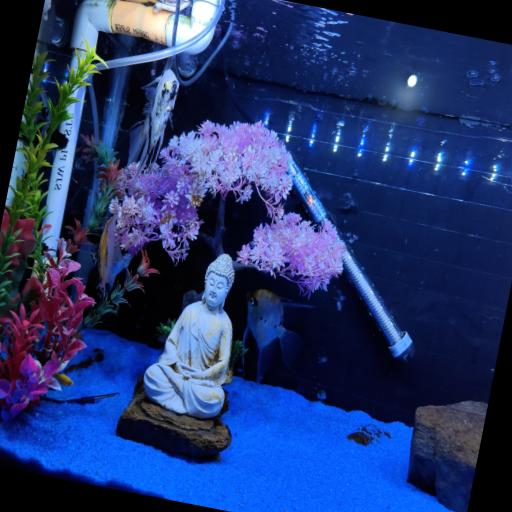Fish: (242, 289, 311, 383), (127, 69, 178, 184), (97, 214, 131, 290), (52, 373, 72, 385), (42, 0, 50, 20)
